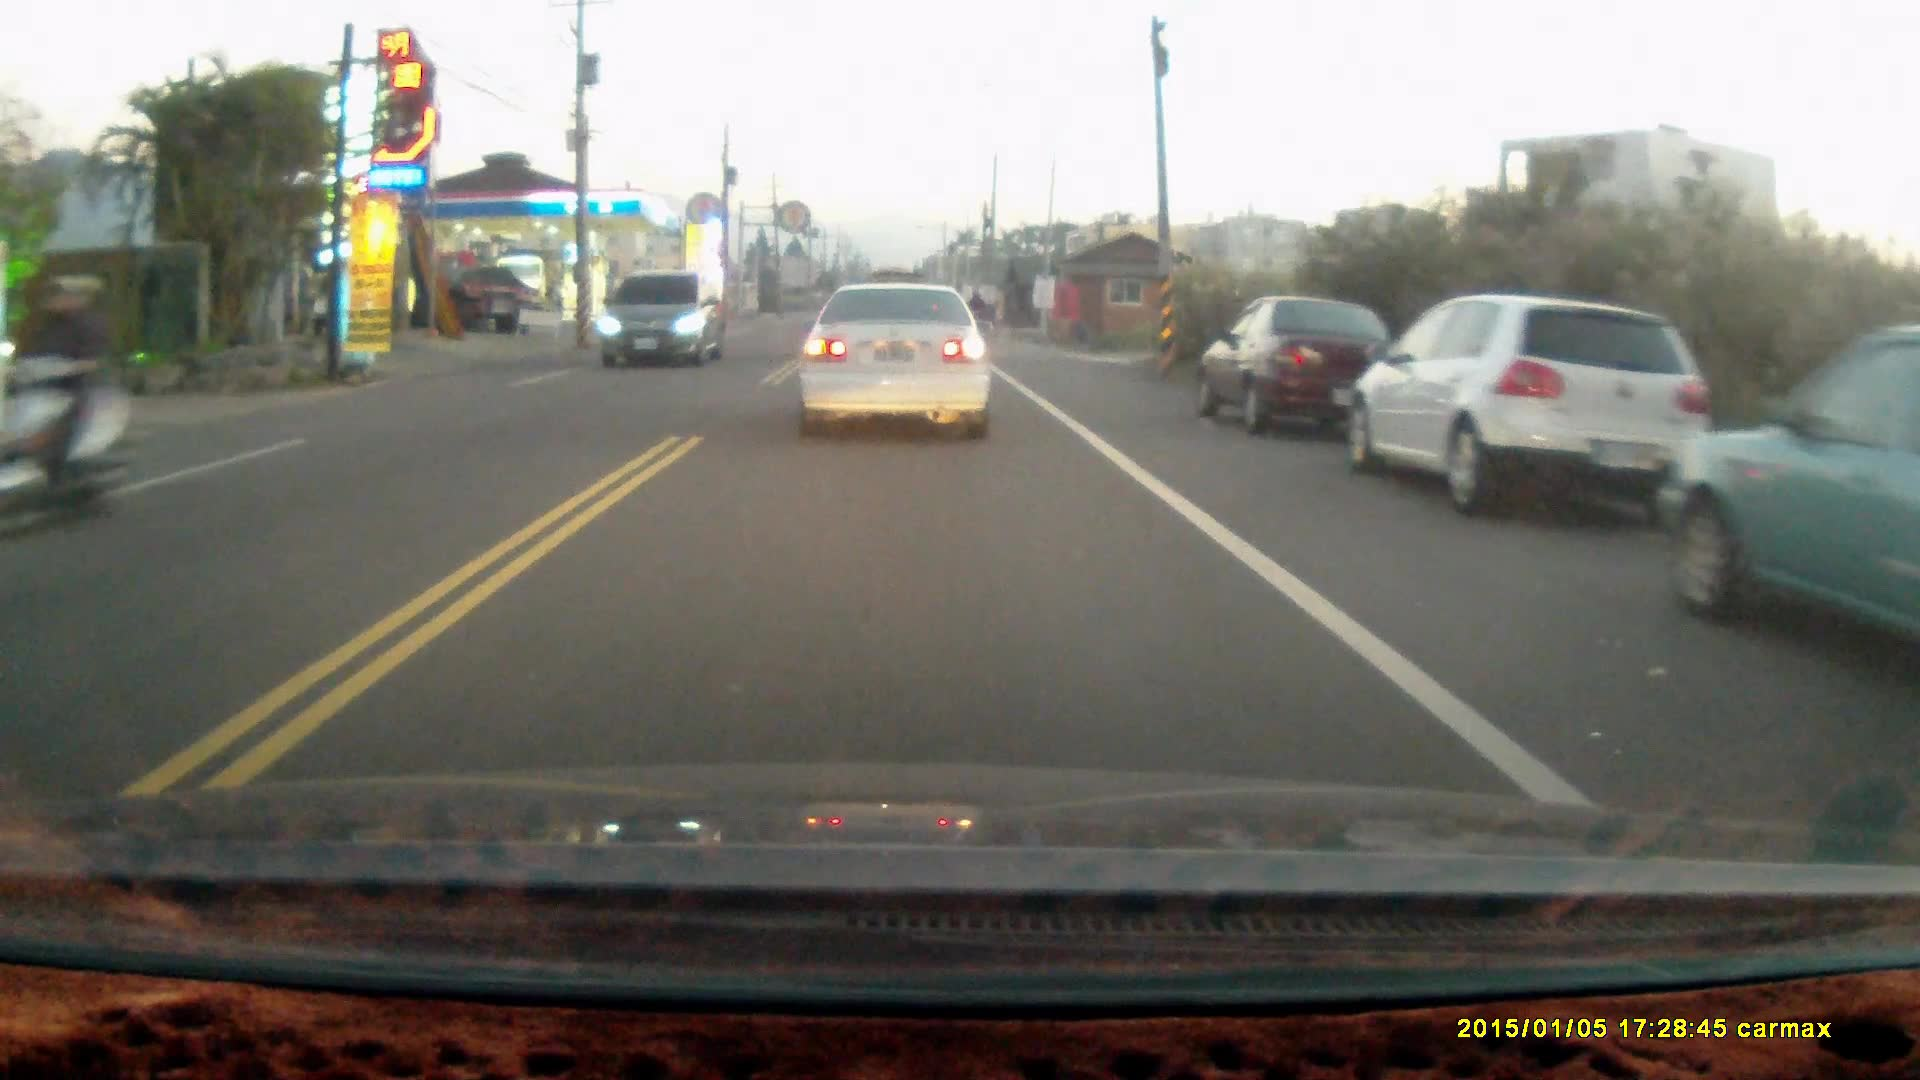rider: (0, 273, 131, 530)
vehicle: (1658, 325, 1920, 671), (1349, 293, 1714, 515), (797, 280, 995, 447), (1198, 295, 1411, 435), (597, 272, 727, 367)
